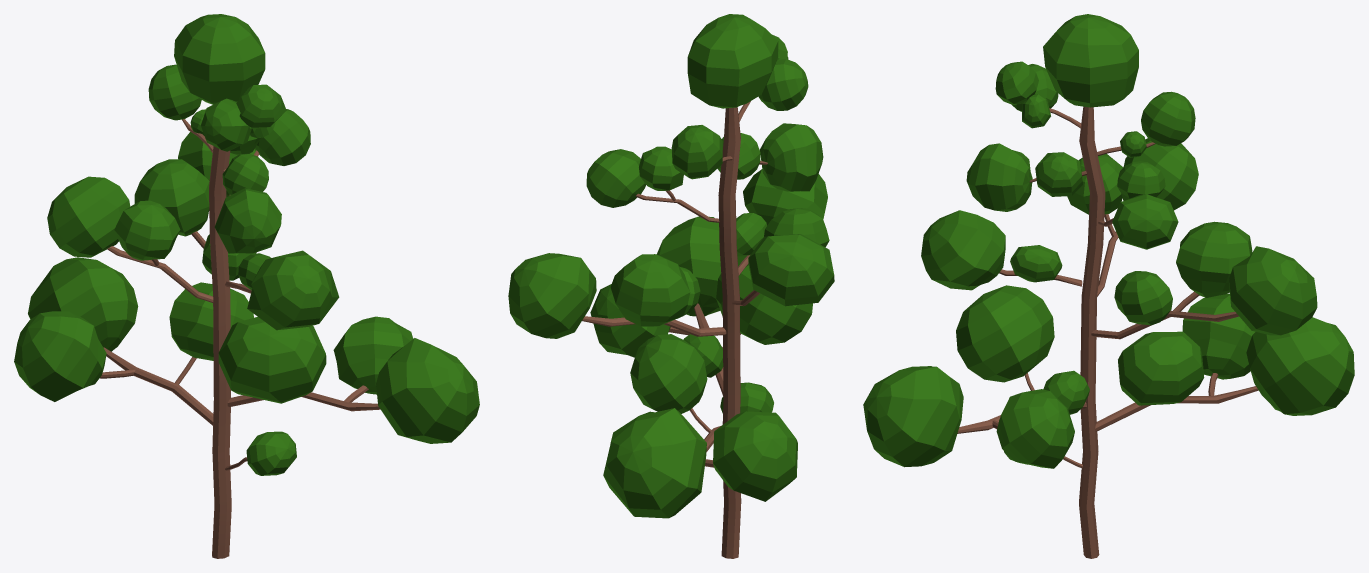
File: ARbre-1-MAYA.fbx
The picture shows the model from 3 angles, left to right: view 1: azimuth 30°, elevation 25°; view 2: azimuth 150°, elevation 25°; view 3: azimuth 270°, elevation 25°; orthographic projection.
Parts seen in each view (by area): view 1: polySurface47; view 2: polySurface47; view 3: polySurface47.
Part boxes in pixels (bbox=[...]): polySurface47: bbox=[14, 14, 479, 558]; polySurface47: bbox=[508, 14, 834, 558]; polySurface47: bbox=[863, 14, 1354, 558].
Bounding box in the file's own units: 30.7 × 53.12 × 44.14.
